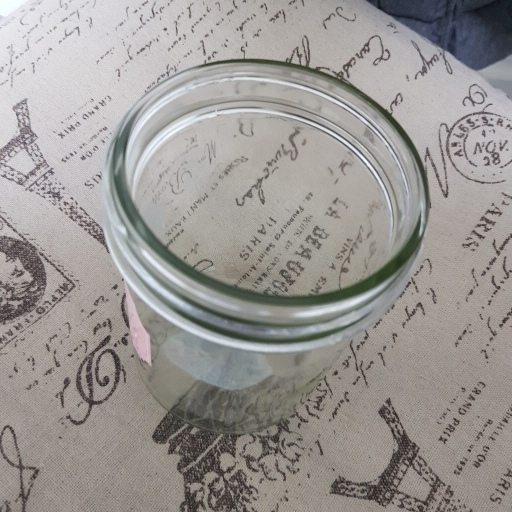Glass_5: (102, 56, 428, 429)
